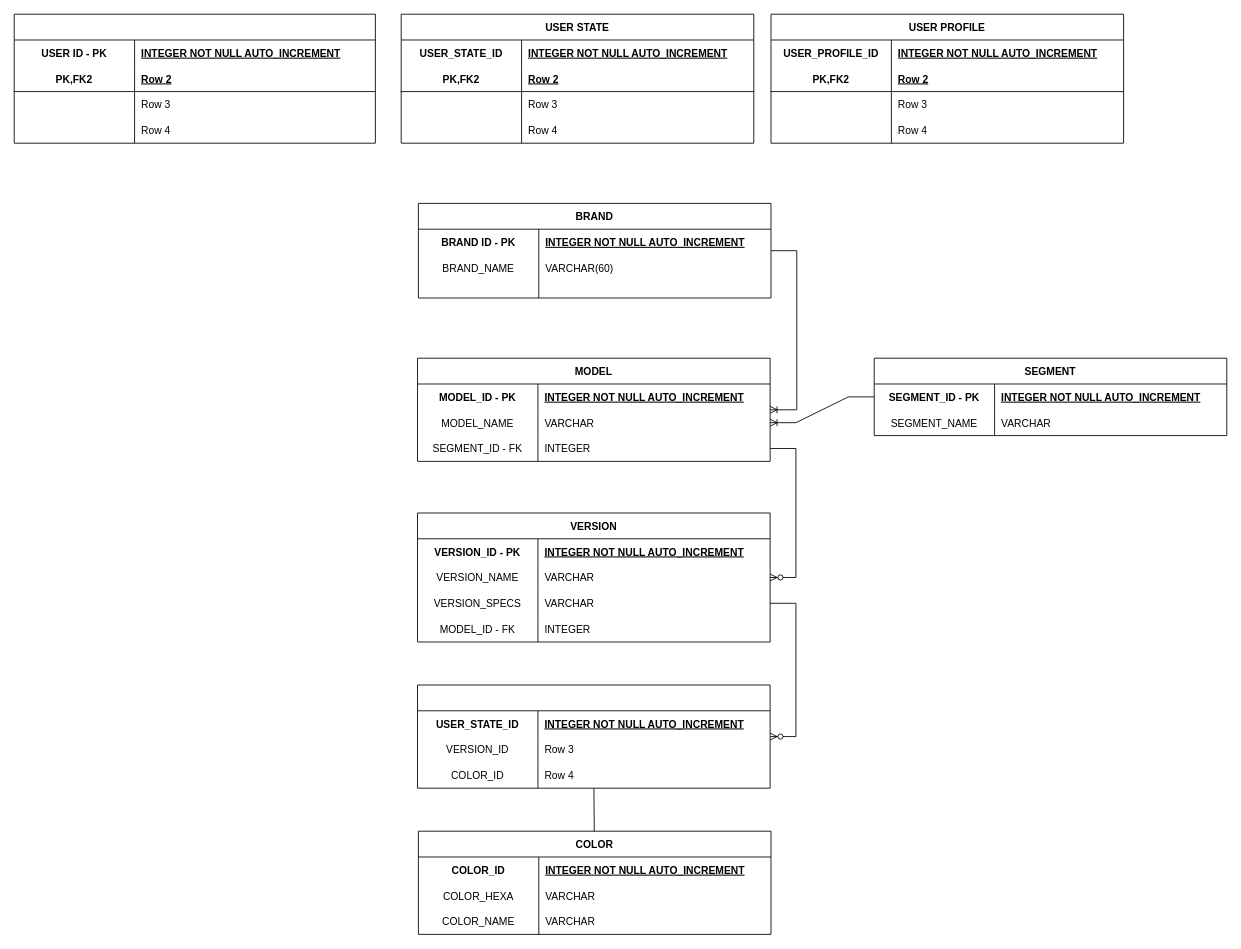
Some shapes in this 1241 by 949 pixel diagram are drawn without their labels. The box of each missing label's shape, as (x1, y1, x2, y2) in pixels:
CAR_UNIT: (417, 684, 770, 788)
USERS: (13, 13, 375, 143)
